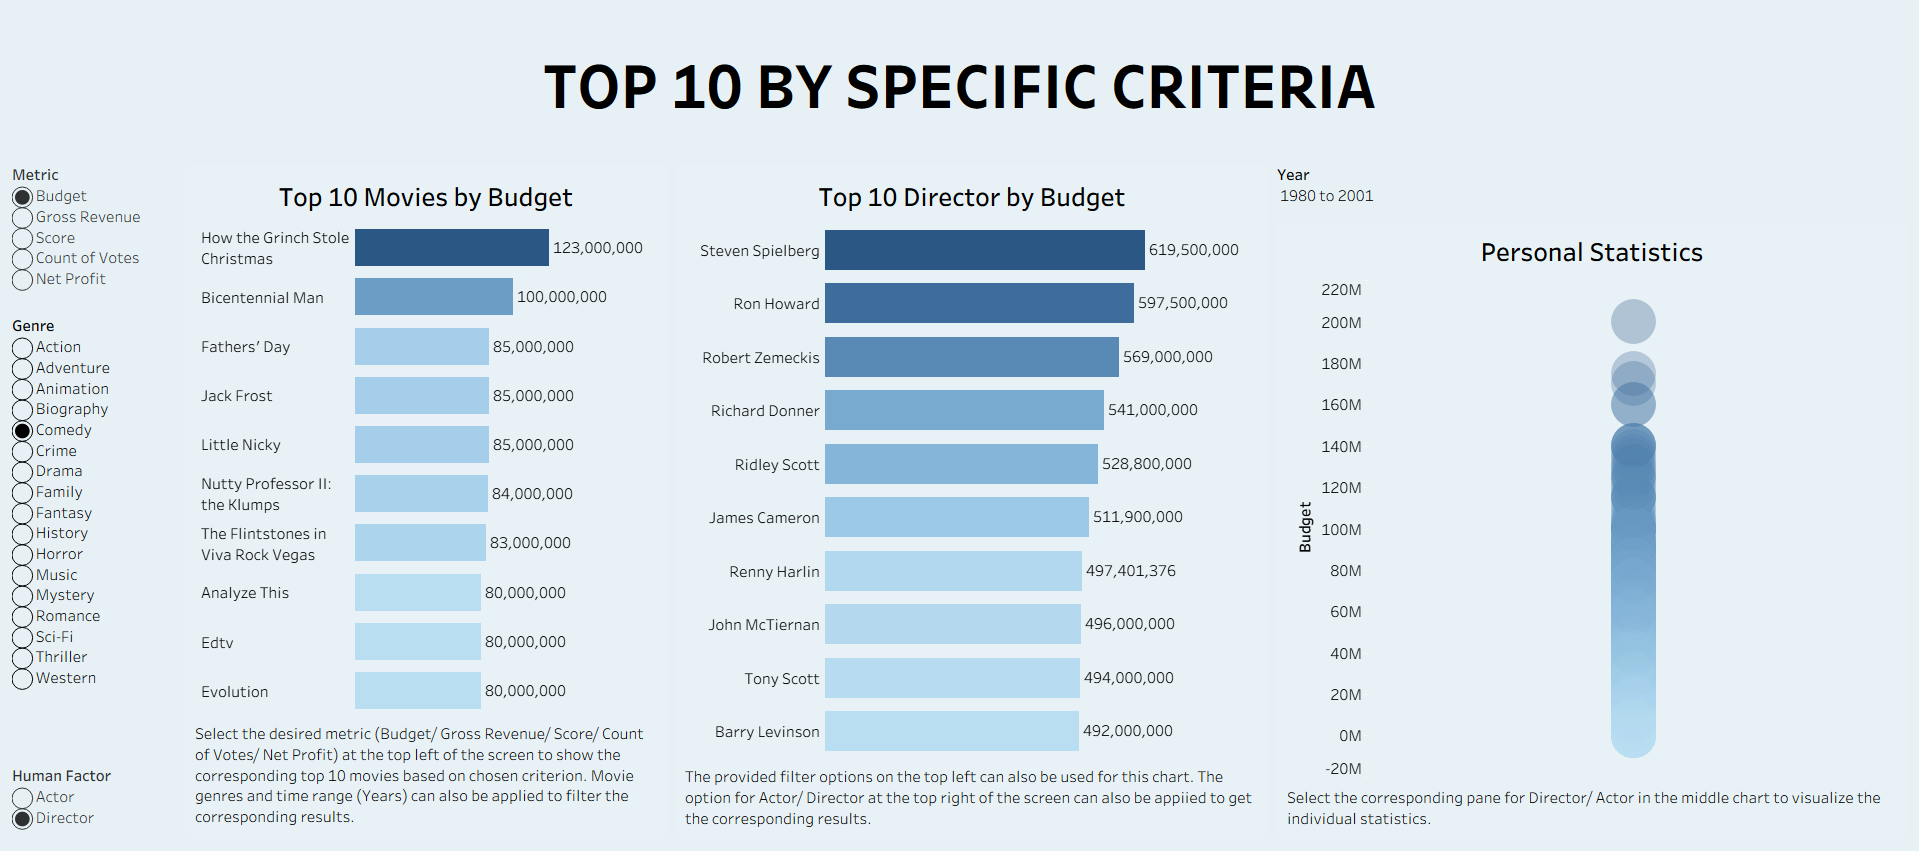

This screenshot's page, from the dashboard's own definition file:
{"tool":"tableau","page":{"name":"Dashboard 1","canvas":[1000,1000],"units":"permille","ordinal":0},"visuals":[{"type":"title","box":[4.8,9.4,990.3,177.4]},{"type":"parameter","param":"[Parameters].[Parameter 1]","box":[4.8,186.8,104.4,177.4]},{"type":"worksheet","title":"Top 10 movies dynamic","mark":"Bar","rows":["Calculation_1523624063916322825","name"],"cols":["Calculation_1523624063912140806"],"box":[109.2,186.8,295.7,803.7]},{"type":"worksheet","title":"Top 10 human dynamic","mark":"Bar","rows":["Calculation_1523624063933157389"],"cols":["Dynamic Value (copy)_1523624063935512590"],"box":[405,186.8,363.3,803.7]},{"type":"filter","title":"Top 10 movies dynamic","param":"[federated.0g33uv619y5pu513yh8qm0dsra5h].[none:year:qk]","box":[768.3,186.8,226.9,64.6]},{"type":"worksheet","title":"Movies - Human","mark":"Shape","rows":["Calculation_1523624063912140806"],"box":[768.3,251.5,226.9,739.1]},{"type":"filter","title":"Top 10 movies dynamic","param":"[federated.0g33uv619y5pu513yh8qm0dsra5h].[none:genre:nk]","box":[4.8,364.3,104.4,528.8]},{"type":"parameter","param":"[Parameters].[Parameter 2]","box":[4.8,893.1,104.4,96.4]}]}

Visuals, with their boxes on the dashboard's canvas, which has no fixed pixel size, in thousandths of its width and height (x1, y1, x2, y2). These are canvas units, not pixel positions in the 1919x851 screenshot, which may show the page scaled, cropped or inside an application window:
title: l=5, t=9, r=995, b=187
parameter: l=5, t=187, r=109, b=364
"Top 10 movies dynamic" worksheet (Bar marks): l=109, t=187, r=405, b=990
"Top 10 human dynamic" worksheet (Bar marks): l=405, t=187, r=768, b=990
"Top 10 movies dynamic" filter: l=768, t=187, r=995, b=251
"Movies - Human" worksheet (Shape marks): l=768, t=252, r=995, b=991
"Top 10 movies dynamic" filter: l=5, t=364, r=109, b=893
parameter: l=5, t=893, r=109, b=990
